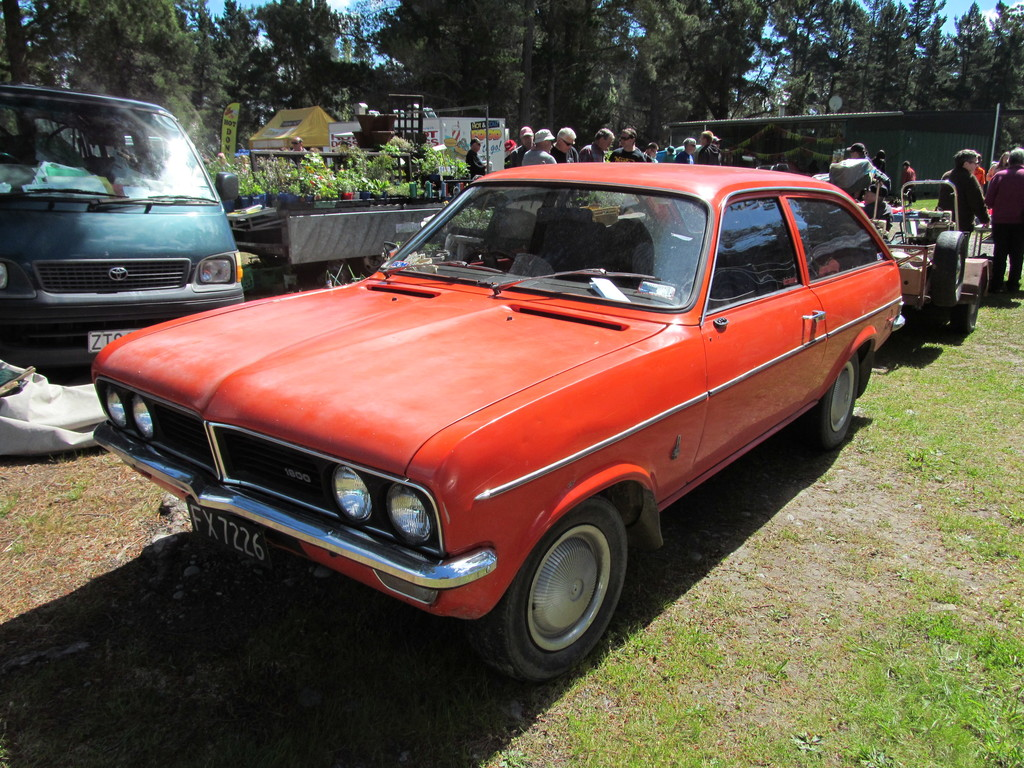Car: (81, 168, 926, 679), (0, 89, 248, 379)
